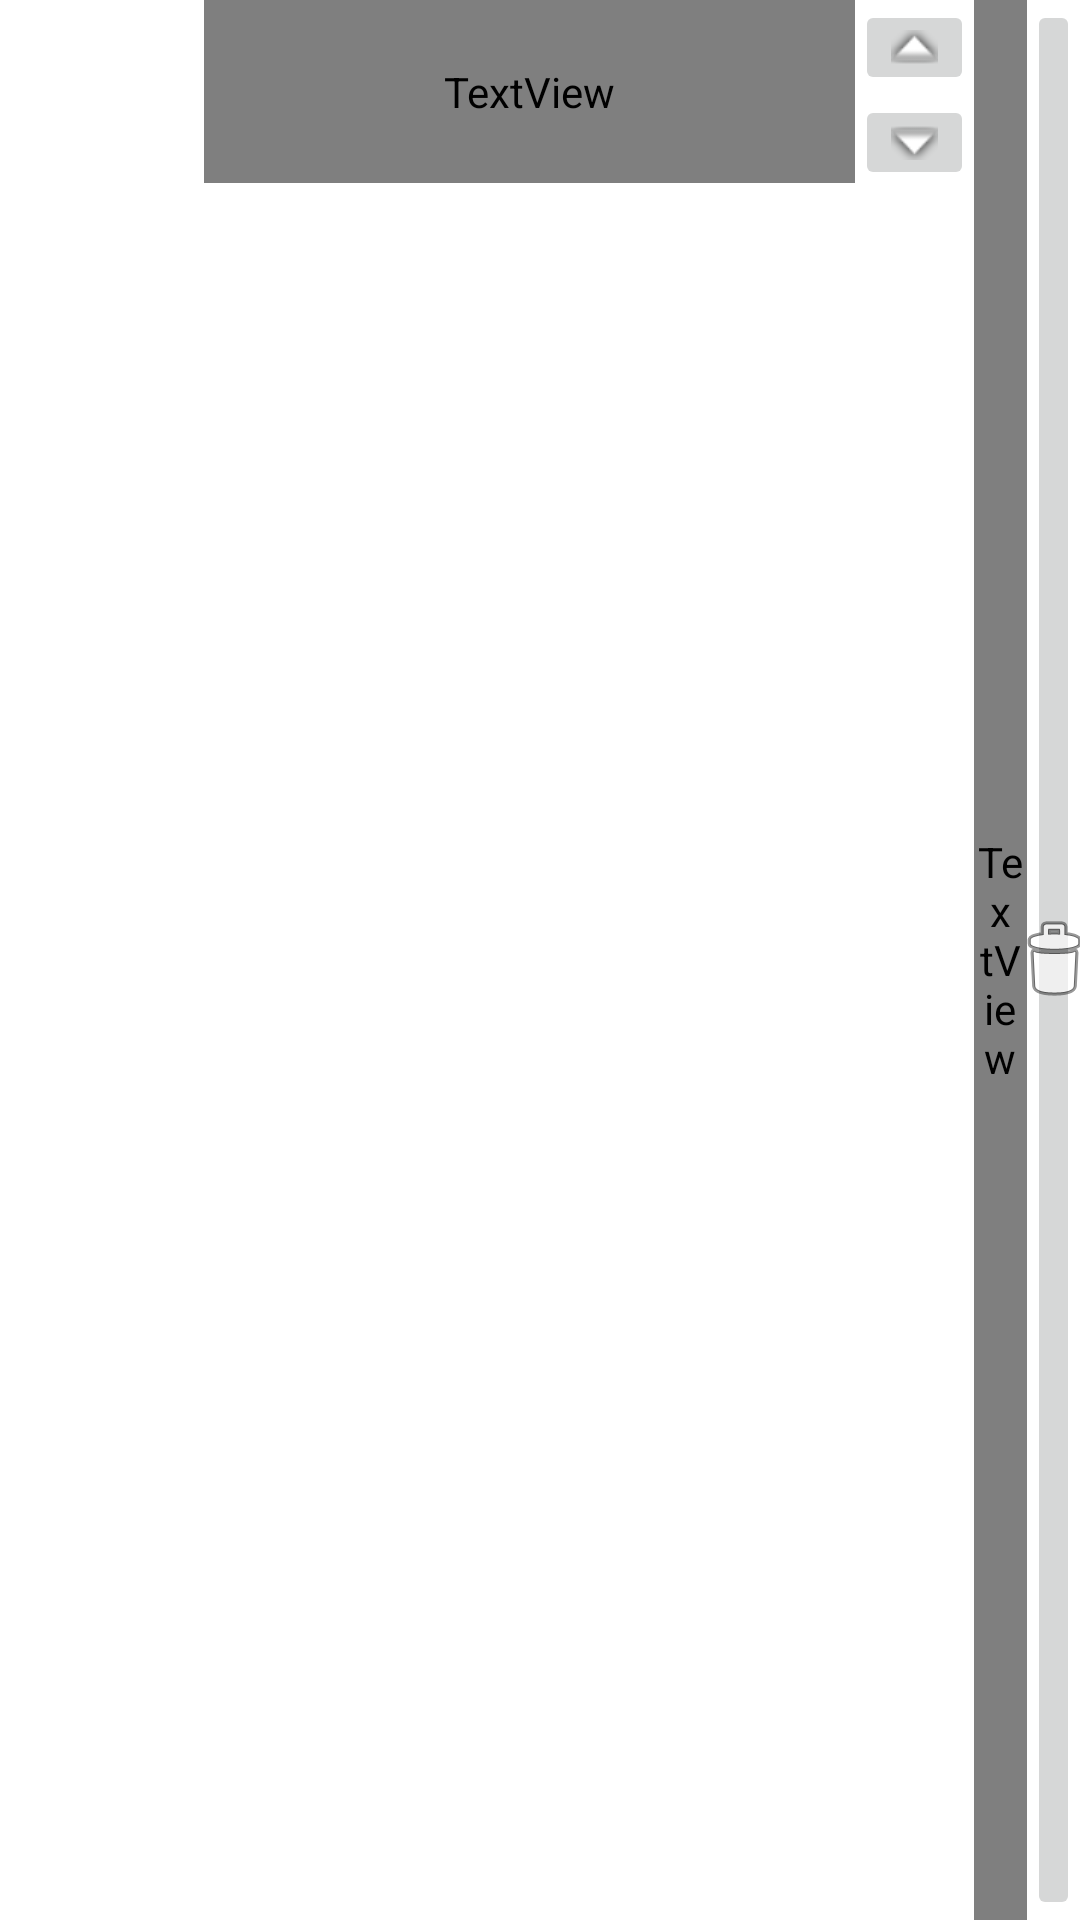

Screen size 1080px×1920px. Icon name, then its box in pixels as (x1, y1, x2, y2):
arrow down float: (867, 113, 962, 172)
arrow up float: (867, 18, 962, 77)
